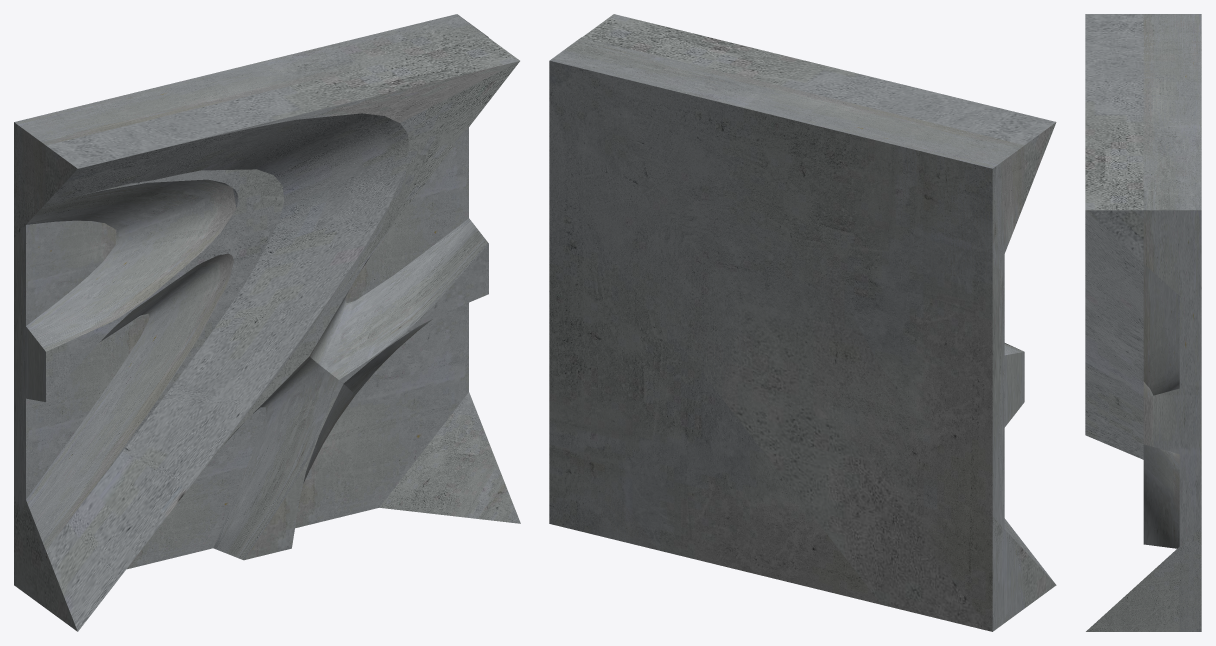
The model's file is module_U3.fbx.
3 renders of one model, left to right at view 1: azimuth 30°, elevation 25°; view 2: azimuth 150°, elevation 25°; view 3: azimuth 270°, elevation 25°, orthographic. The views are drawn at different scales.
Visible parts, largest first — view 1: modules; view 2: modules; view 3: modules.
Boxes of the visible parts, x1,y1,x2,y2 form: modules: (14, 14, 520, 631); modules: (549, 14, 1056, 631); modules: (1085, 14, 1201, 631).
Size of the model in its own units: 1001 by 250 by 1000.
Materials: 1 (1 with a texture image).
